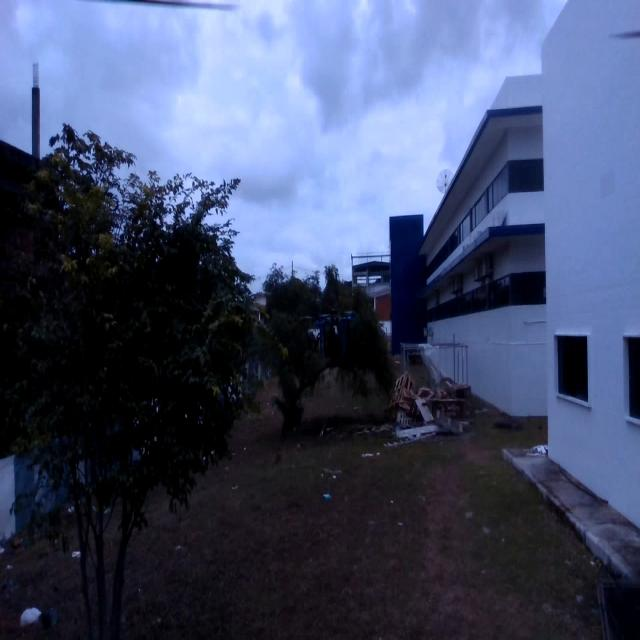-uav-: (311, 304, 356, 360)
